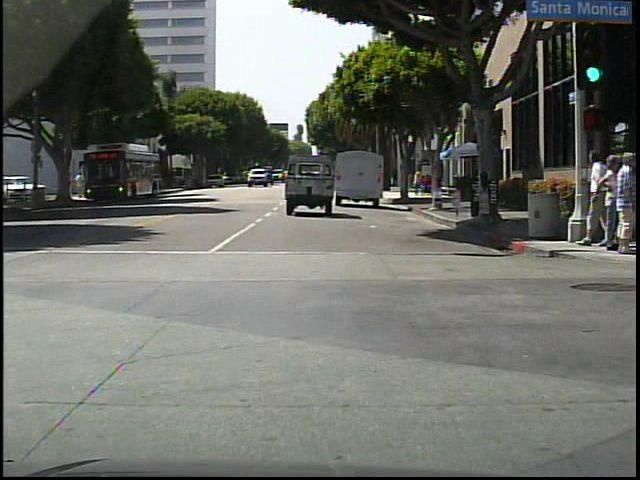person: (610, 152, 640, 255), (580, 150, 609, 250), (600, 156, 622, 253), (77, 170, 87, 201), (414, 171, 423, 198), (66, 175, 75, 201), (409, 169, 416, 198)
